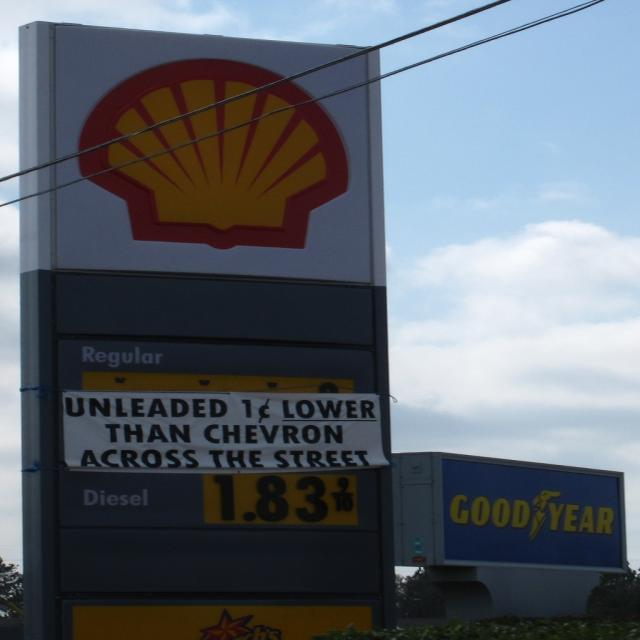shell: (78, 57, 350, 252)
